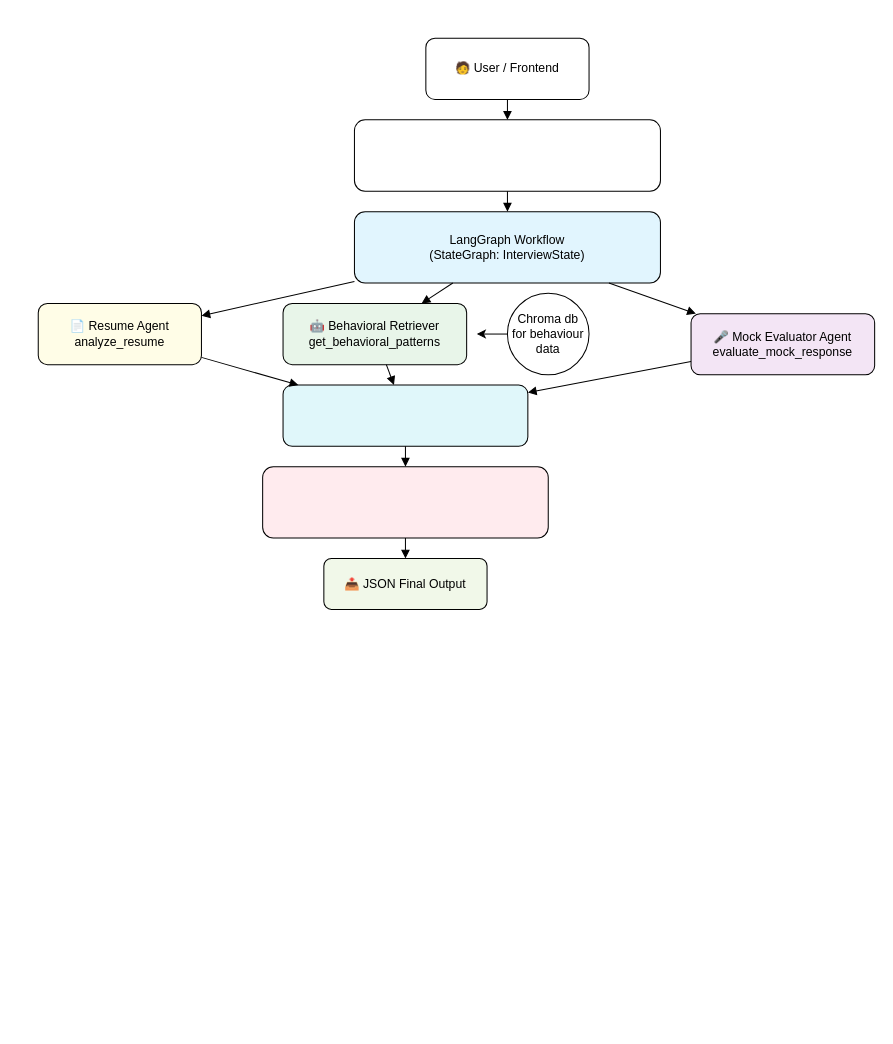
Some shapes in this 893 by 1044 pixel diagram are drawn without their labels. The centre of each missing label's shape, as x and y in pixels:
📊 Outcome Predictor Agent predict_outcome: point 405,415
📡 FastAPI Backend (POST /run-interview-evaluation): point 506,155
🧠 Gap Fixer & Resource Recommender generate_improvement_plan: point 405,502
